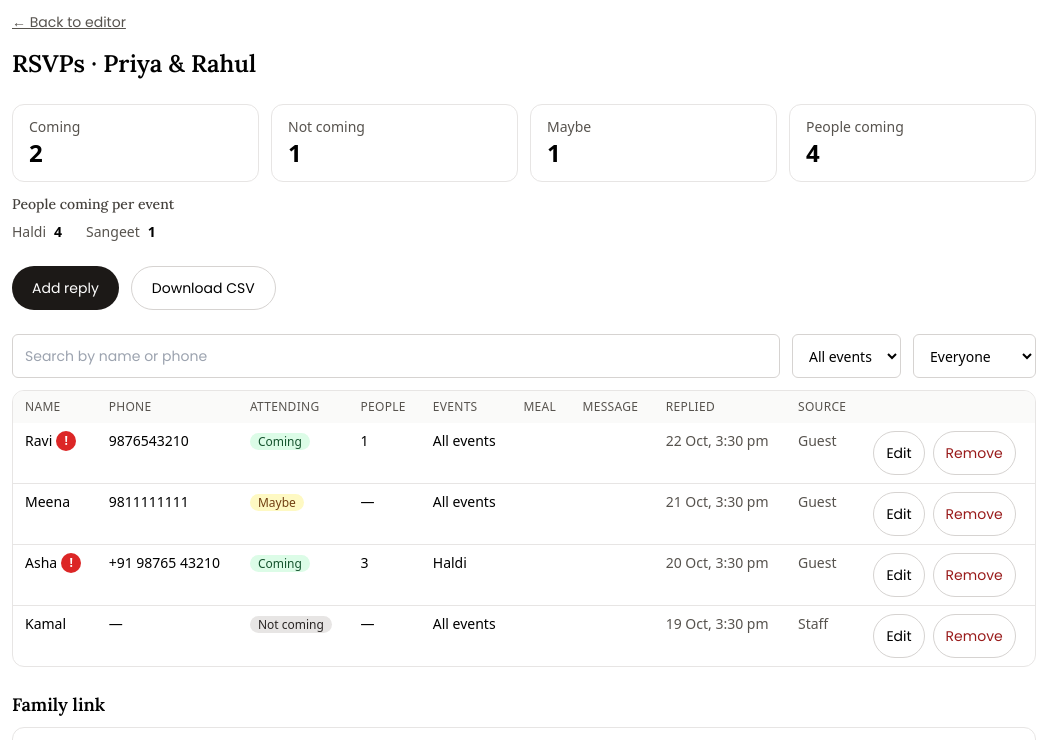
Test: RsvpPage › filters by search, event and attending
Type "98111" into the search field named "Search replies" at (396, 356), box [12, 334, 780, 378]
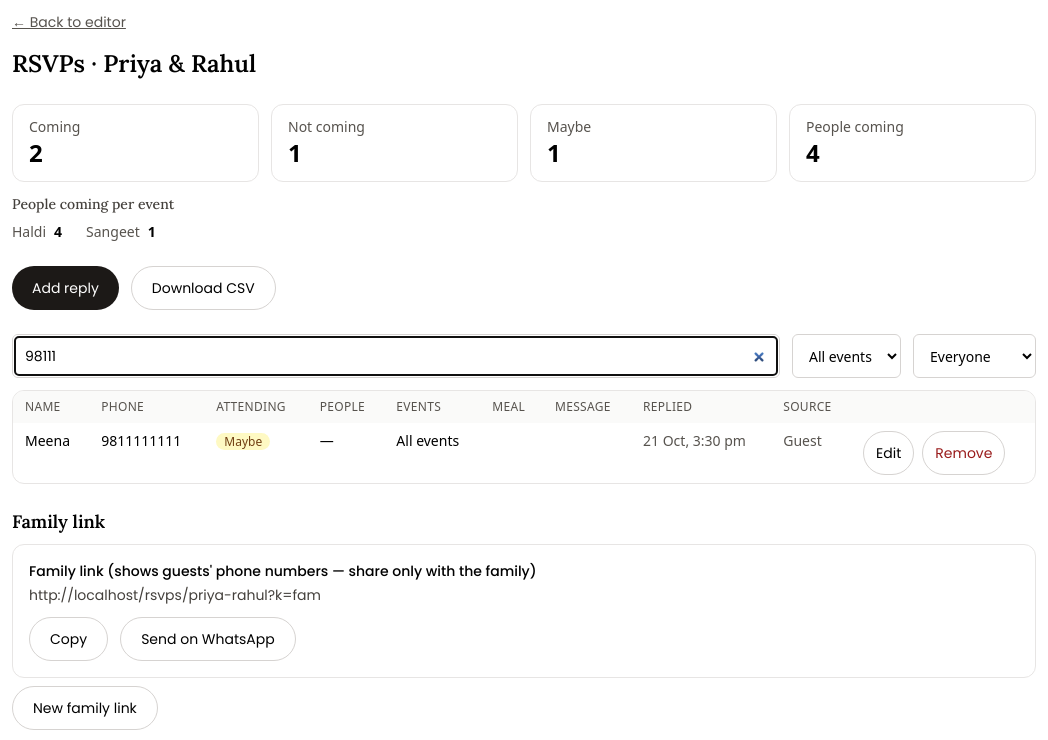
Clear the search field named "Search replies" at (396, 356), box [12, 334, 780, 378]
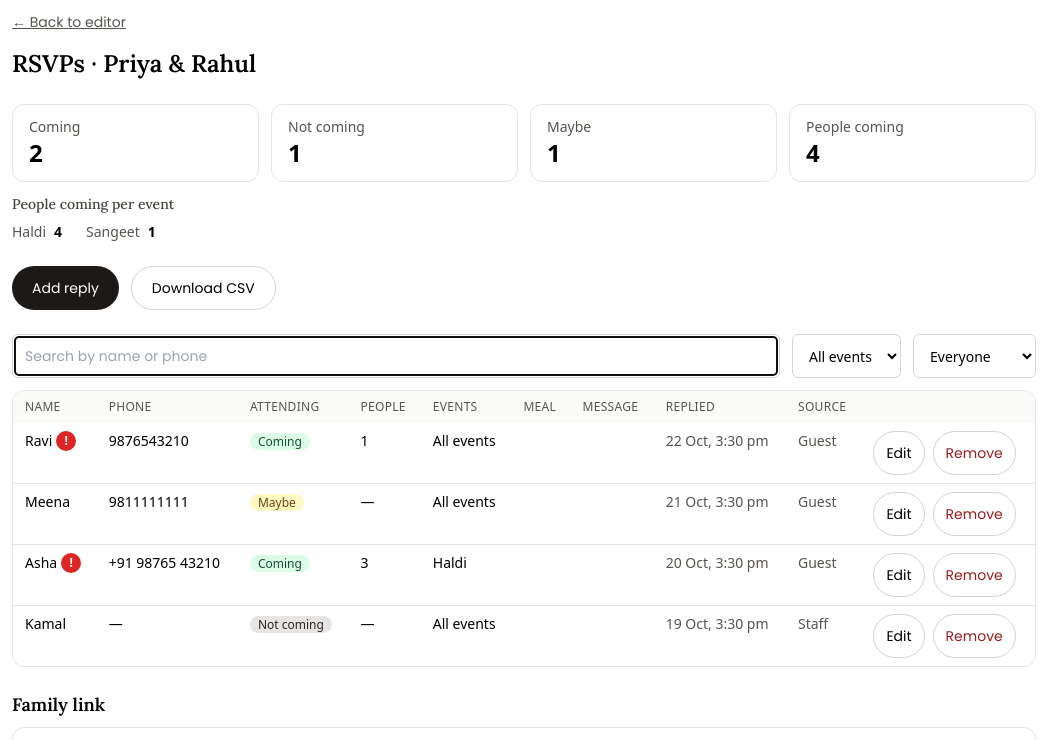
Select "Coming" in the dropdown named "Attending" at (974, 356), box [913, 334, 1036, 378]
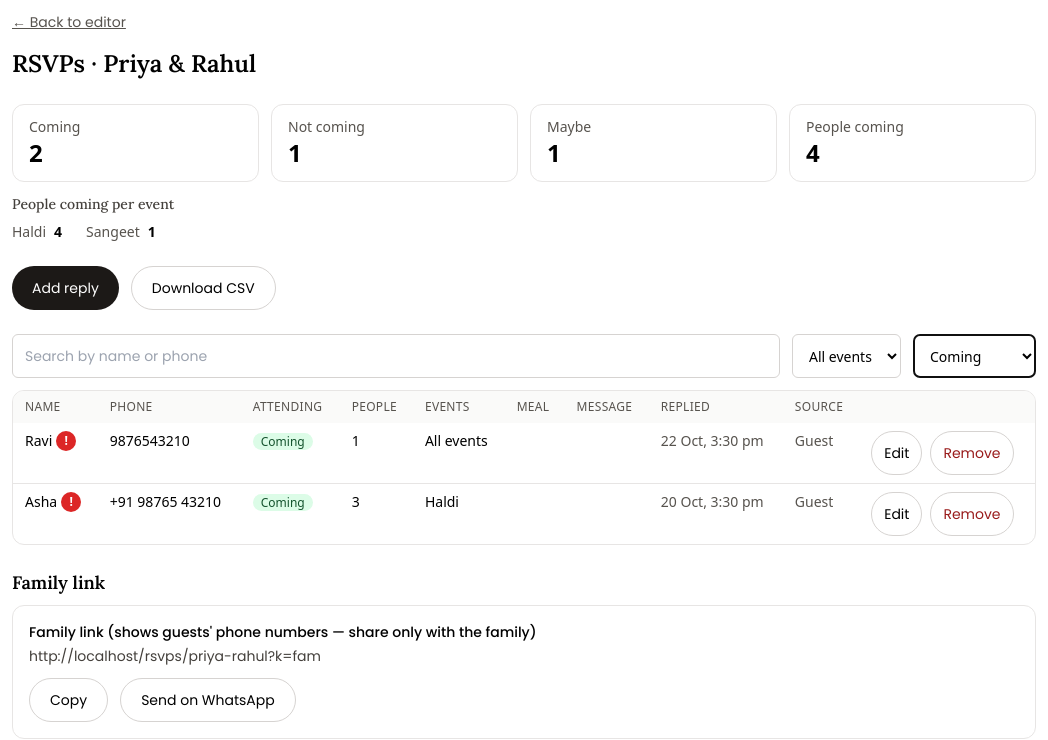
Select "Everyone" in the dropdown named "Attending" at (974, 356), box [913, 334, 1036, 378]
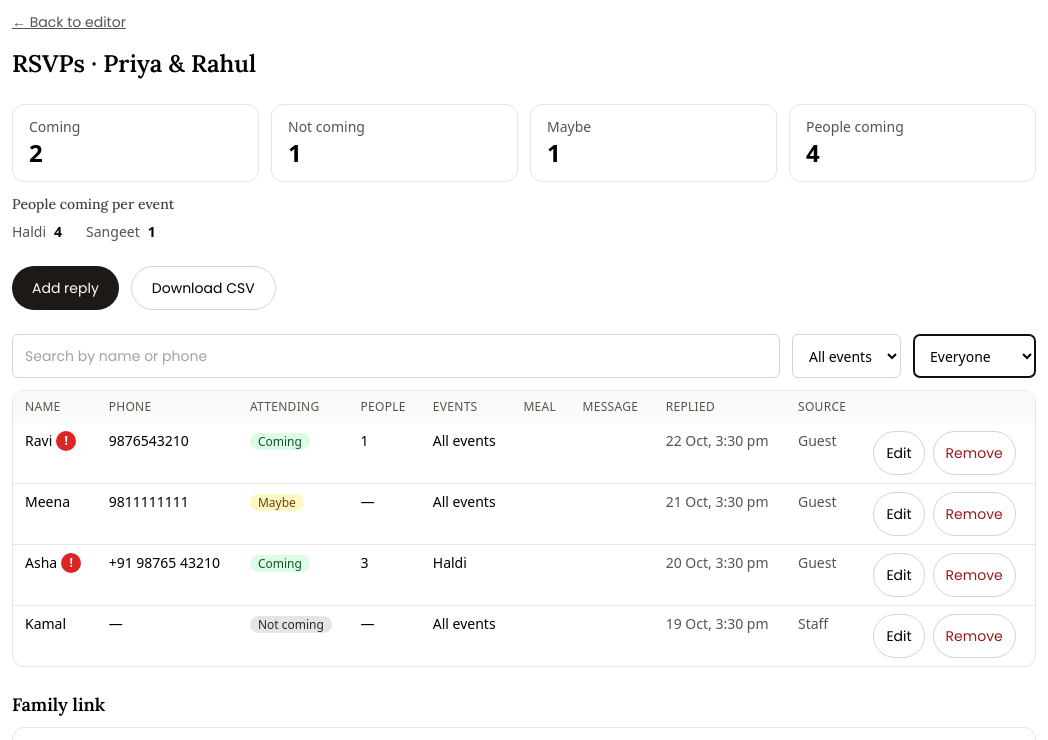
Select "Sangeet" in the dropdown named "Event" at (846, 356), box [792, 334, 901, 378]
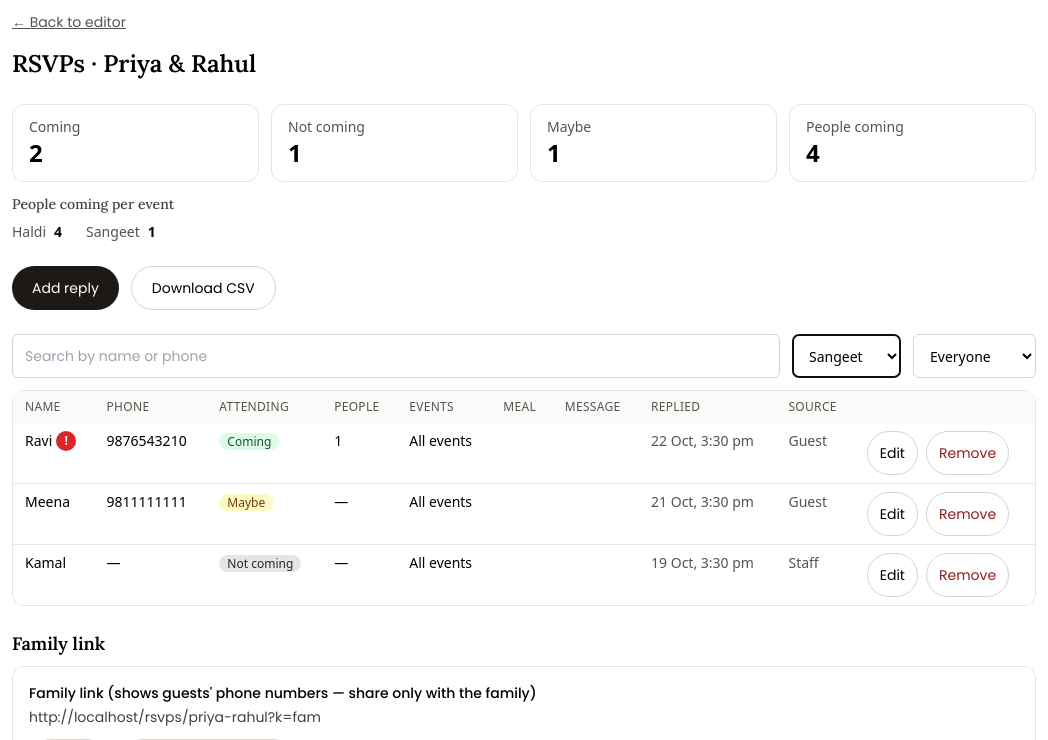
Type "zzz" into the search field named "Search replies" at (396, 356), box [12, 334, 780, 378]
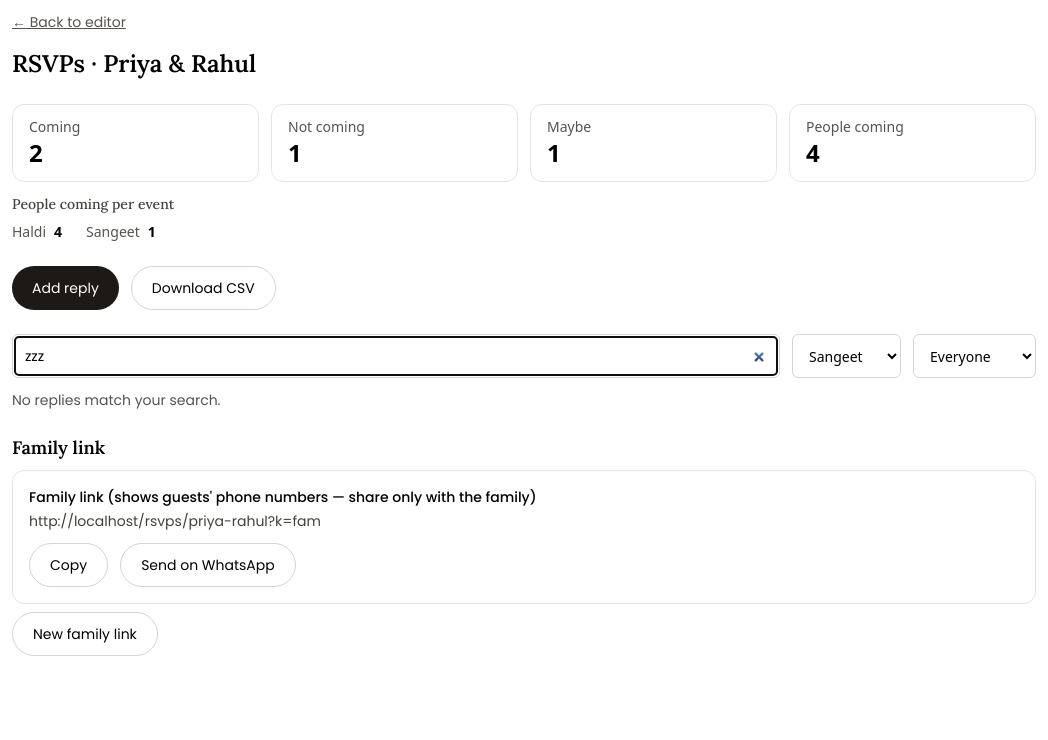
Expected: the text "No replies match your search." is shown, [12, 390, 220, 410]
